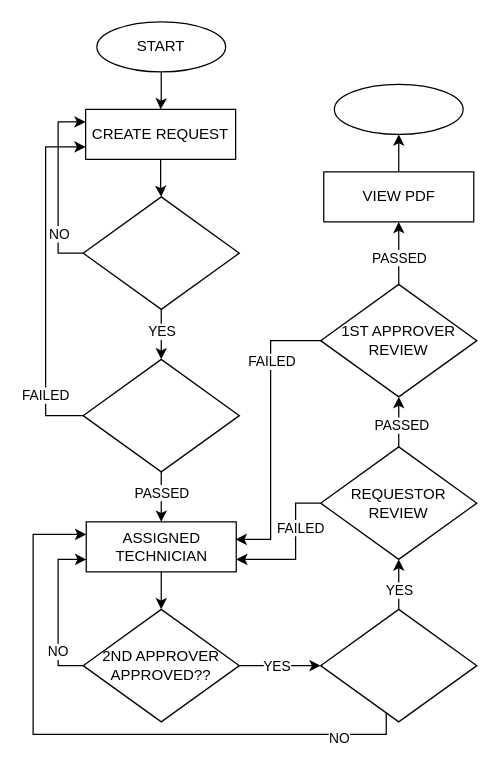
Image size: 499x768. Some labels were removed from this diagram. The shapes that lost their labels are listed below. From the top down, each one's box as (x1, y1, x2, y2) in pixels, then its label:
(333, 83, 463, 134): END
(82, 196, 239, 309): 1ST APPROVER APPROVED??
(82, 358, 239, 472): 2ND APPROVER REVIEW
(319, 608, 477, 722): 3RD APPROVER APPROVED??
